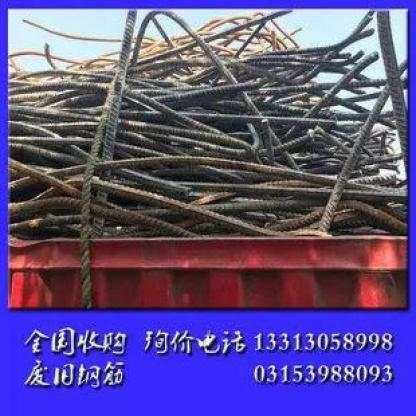rebar: (6, 8, 408, 309)
